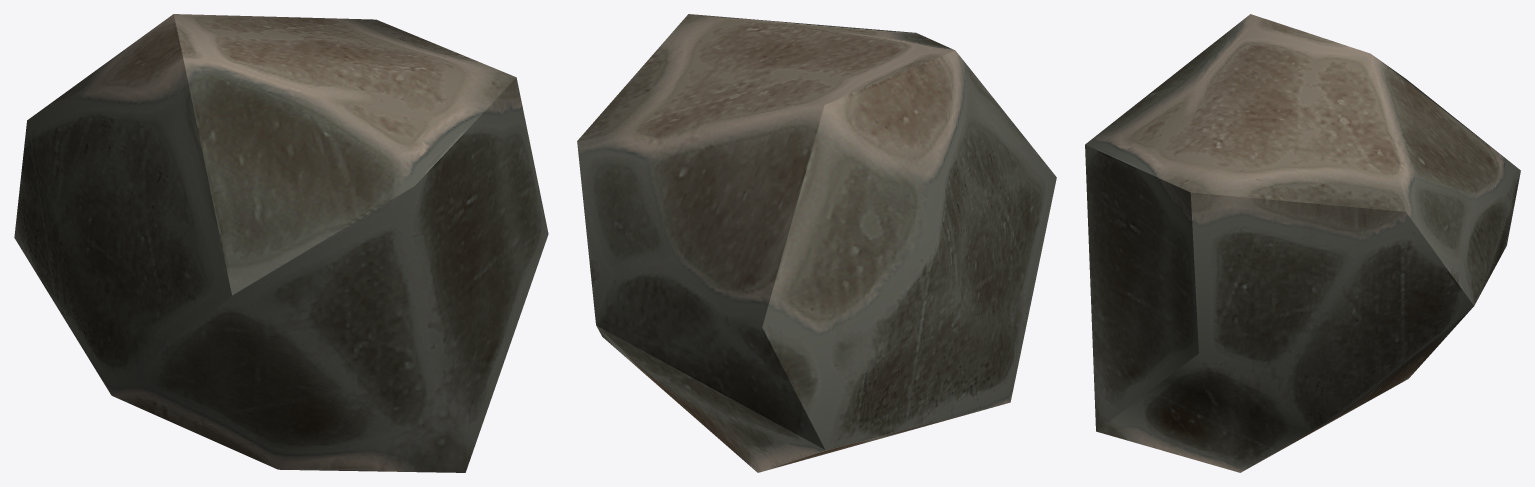
File: pebble_5.fbx
3 views of the same model, side by side, from view 1: azimuth 30°, elevation 25°; view 2: azimuth 150°, elevation 25°; view 3: azimuth 270°, elevation 25° (orthographic). The views are drawn at different scales.
Parts seen in each view (by area): view 1: pebble_5; view 2: pebble_5; view 3: pebble_5.
Boxes of the visible parts, x1,y1,x2,y2 form: pebble_5: (14, 14, 548, 472); pebble_5: (577, 14, 1056, 472); pebble_5: (1085, 14, 1520, 472).
Bounding box in the file's own units: 0.3123 × 0.3082 × 0.3419.
